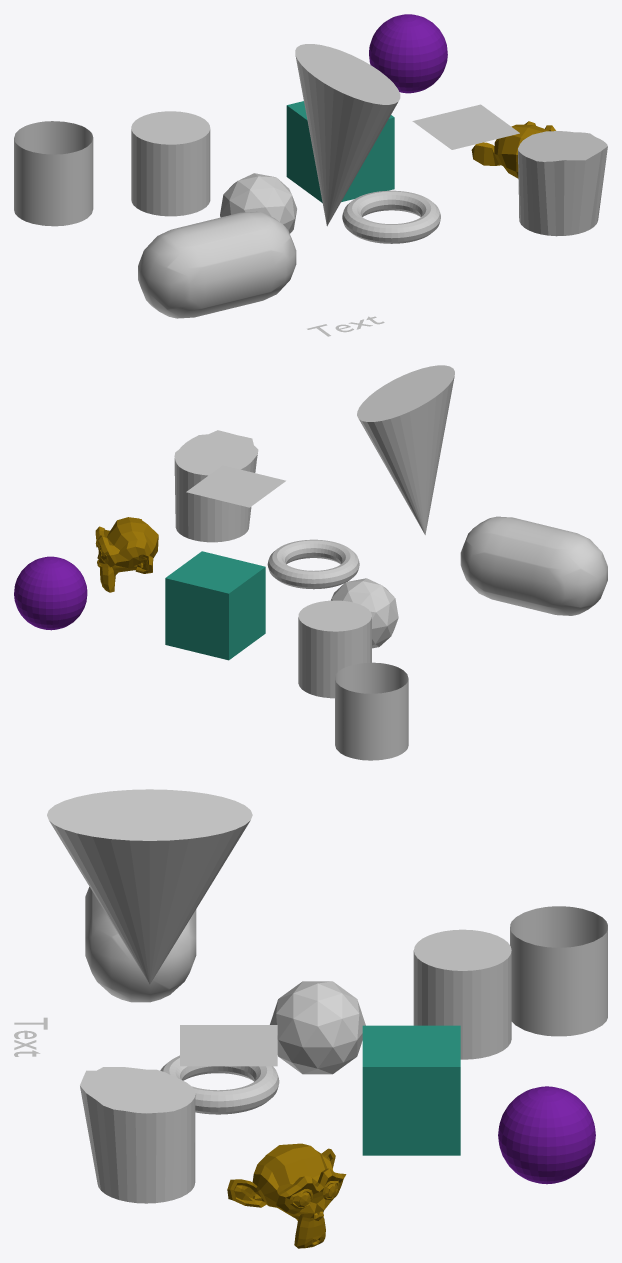
The model's file is sample_object01.obj.
3 renders of one model, top to bottom at view 1: azimuth 30°, elevation 25°; view 2: azimuth 150°, elevation 25°; view 3: azimuth 270°, elevation 25°, orthographic. The views are drawn at different scales.
Parts seen in each view (by area): view 1: Mball, Cone, Cylinder, Surface, Cylinder.001, Sphere, Cube, Torus, Icosphere, Plane, Suzanne; view 2: Mball, Cube, Cone, Surface, Cylinder, Cylinder.001, Sphere, Torus, Suzanne, Plane, Icosphere; view 3: Cone, Cylinder, Cube, Surface, Cylinder.001, Sphere, Icosphere, Suzanne, Mball, Plane, Torus.
Boxes of the visible parts, x1=… form: Mball: x1=138, y1=211, x2=296, y2=318; Cone: x1=295, y1=44, x2=400, y2=226; Cylinder: x1=518, y1=131, x2=607, y2=236; Surface: x1=14, y1=121, x2=93, y2=226; Cylinder.001: x1=131, y1=111, x2=210, y2=216; Sphere: x1=369, y1=14, x2=447, y2=93; Cube: x1=286, y1=101, x2=394, y2=202; Torus: x1=342, y1=190, x2=440, y2=243; Icosphere: x1=220, y1=173, x2=296, y2=233; Plane: x1=412, y1=104, x2=519, y2=149; Suzanne: x1=471, y1=121, x2=555, y2=178; Mball: x1=460, y1=516, x2=607, y2=615; Cube: x1=165, y1=551, x2=265, y2=660; Cone: x1=357, y1=365, x2=454, y2=534; Surface: x1=335, y1=662, x2=408, y2=760; Cylinder: x1=174, y1=430, x2=258, y2=542; Cylinder.001: x1=298, y1=600, x2=371, y2=698; Sphere: x1=14, y1=556, x2=87, y2=630; Torus: x1=267, y1=539, x2=359, y2=589; Suzanne: x1=95, y1=517, x2=158, y2=592; Plane: x1=186, y1=465, x2=285, y2=507; Icosphere: x1=331, y1=578, x2=398, y2=648; Cone: x1=47, y1=789, x2=252, y2=984; Cylinder: x1=80, y1=1067, x2=195, y2=1203; Cube: x1=362, y1=1025, x2=460, y2=1155; Surface: x1=510, y1=906, x2=607, y2=1036; Cylinder.001: x1=413, y1=929, x2=511, y2=1059; Sphere: x1=498, y1=1086, x2=595, y2=1184; Icosphere: x1=270, y1=981, x2=365, y2=1074; Suzanne: x1=227, y1=1143, x2=346, y2=1248; Mball: x1=85, y1=887, x2=196, y2=1002; Plane: x1=180, y1=1025, x2=277, y2=1066; Torus: x1=160, y1=1055, x2=279, y2=1114.
Bounding box in the file's own units: 3.98 × 1.82 × 3.44.
